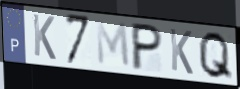7: (65, 12, 93, 67)
K: (168, 27, 195, 77), (31, 12, 57, 62)
M: (94, 18, 132, 70)
P: (130, 21, 164, 72)
Q: (197, 29, 235, 82)
